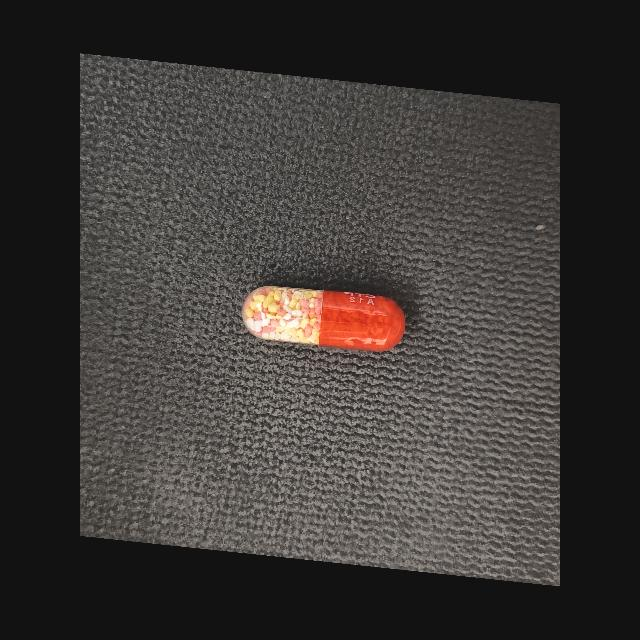Intact Capsule: (242, 286, 405, 352)
